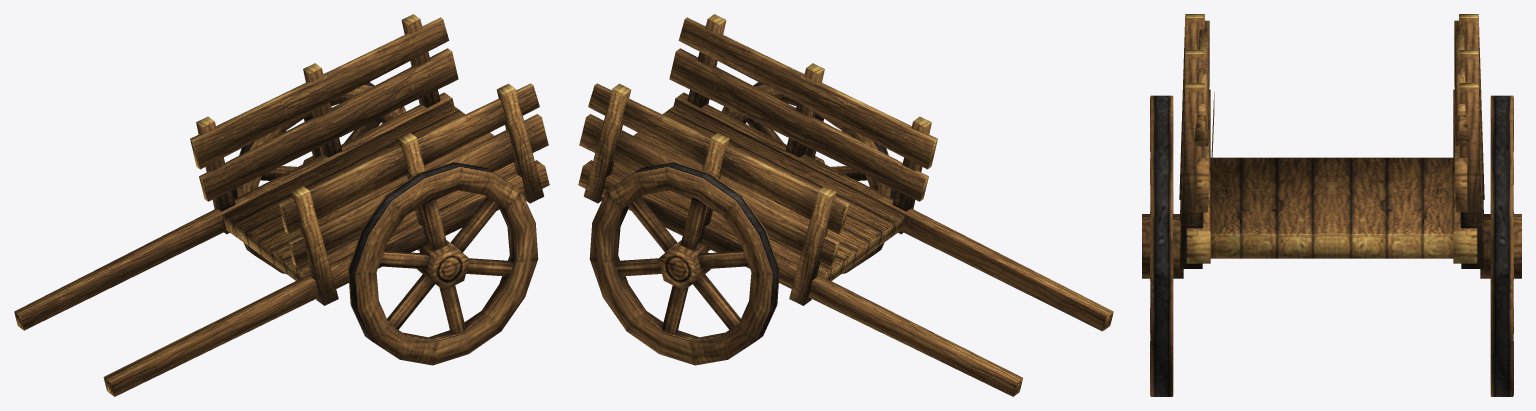
File: cart2W.obj
3 renders of one model, left to right at view 1: azimuth 30°, elevation 25°; view 2: azimuth 150°, elevation 25°; view 3: azimuth 270°, elevation 25°, orthographic. The views are drawn at different scales.
Visible parts, largest first — view 1: cart_2w_Plane.006; view 2: cart_2w_Plane.006; view 3: cart_2w_Plane.006.
Boxes of the visible parts, bbox=[...] form: cart_2w_Plane.006: bbox=[14, 14, 549, 396]; cart_2w_Plane.006: bbox=[578, 14, 1113, 396]; cart_2w_Plane.006: bbox=[1142, 14, 1521, 396].
Size of the model in its own units: 4.24 by 2.26 by 2.2.
